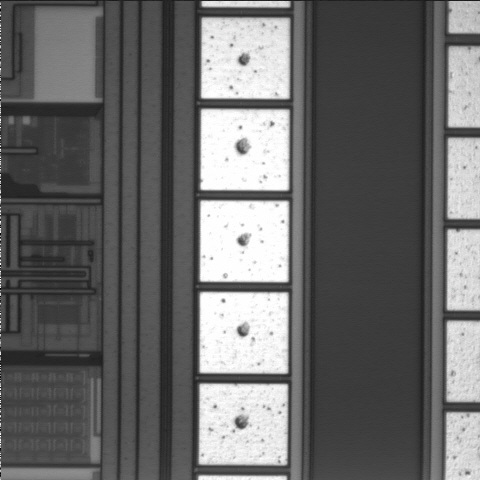pad: (200, 109, 289, 191), (200, 200, 289, 282), (200, 292, 288, 374), (201, 18, 290, 99), (199, 384, 288, 465)
